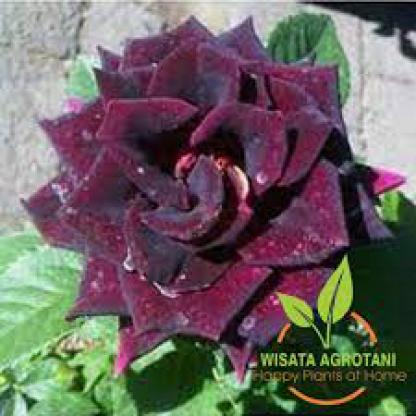Rose-Mawar: (20, 9, 399, 338)
